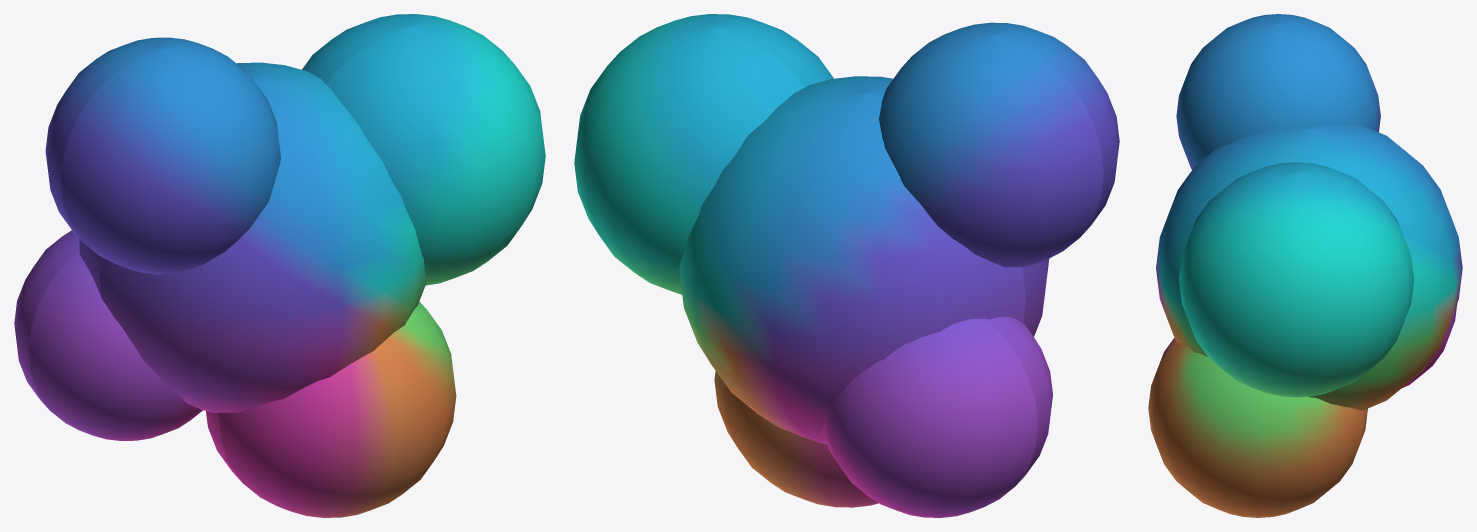
The model's file is orb-07-boba.glb.
The picture shows the model from 3 angles, left to right: view 1: azimuth 30°, elevation 25°; view 2: azimuth 150°, elevation 25°; view 3: azimuth 270°, elevation 25°; orthographic projection. The views are drawn at different scales.
Visible parts, largest first — view 1: boba; view 2: boba; view 3: boba.
Boxes of the visible parts, left/top/right/bottom form: boba: left=14, top=14, right=545, bottom=517; boba: left=574, top=14, right=1119, bottom=517; boba: left=1148, top=14, right=1462, bottom=517.
Size of the model in its own units: 2 by 1.95 by 1.32.
